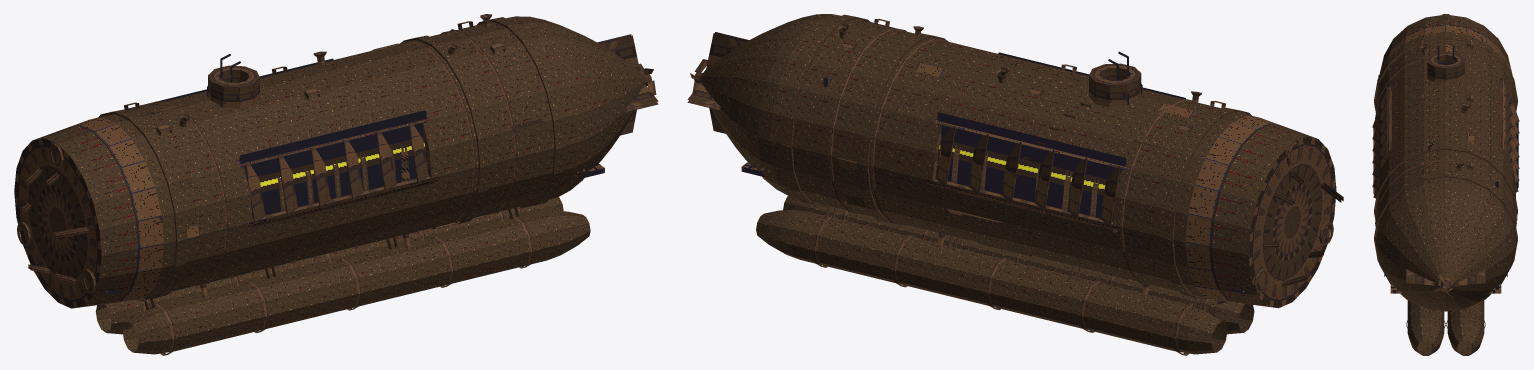
Rendered from SM-13_Sumergible.gltf.
The picture shows the model from 3 angles, left to right: view 1: azimuth 30°, elevation 25°; view 2: azimuth 150°, elevation 25°; view 3: azimuth 270°, elevation 25°; orthographic projection. The views are drawn at different scales.
Parts seen in each view (by area): view 1: SM-13_Sumergible-col; view 2: SM-13_Sumergible-col; view 3: SM-13_Sumergible-col.
Part boxes in pixels (x1=…): SM-13_Sumergible-col: x1=14, y1=14, x2=658, y2=355; SM-13_Sumergible-col: x1=687, y1=14, x2=1343, y2=355; SM-13_Sumergible-col: x1=1372, y1=14, x2=1519, y2=355.
Size of the model in its own units: 18.03 by 7.33 by 4.98.
2 materials, 2 textured.
